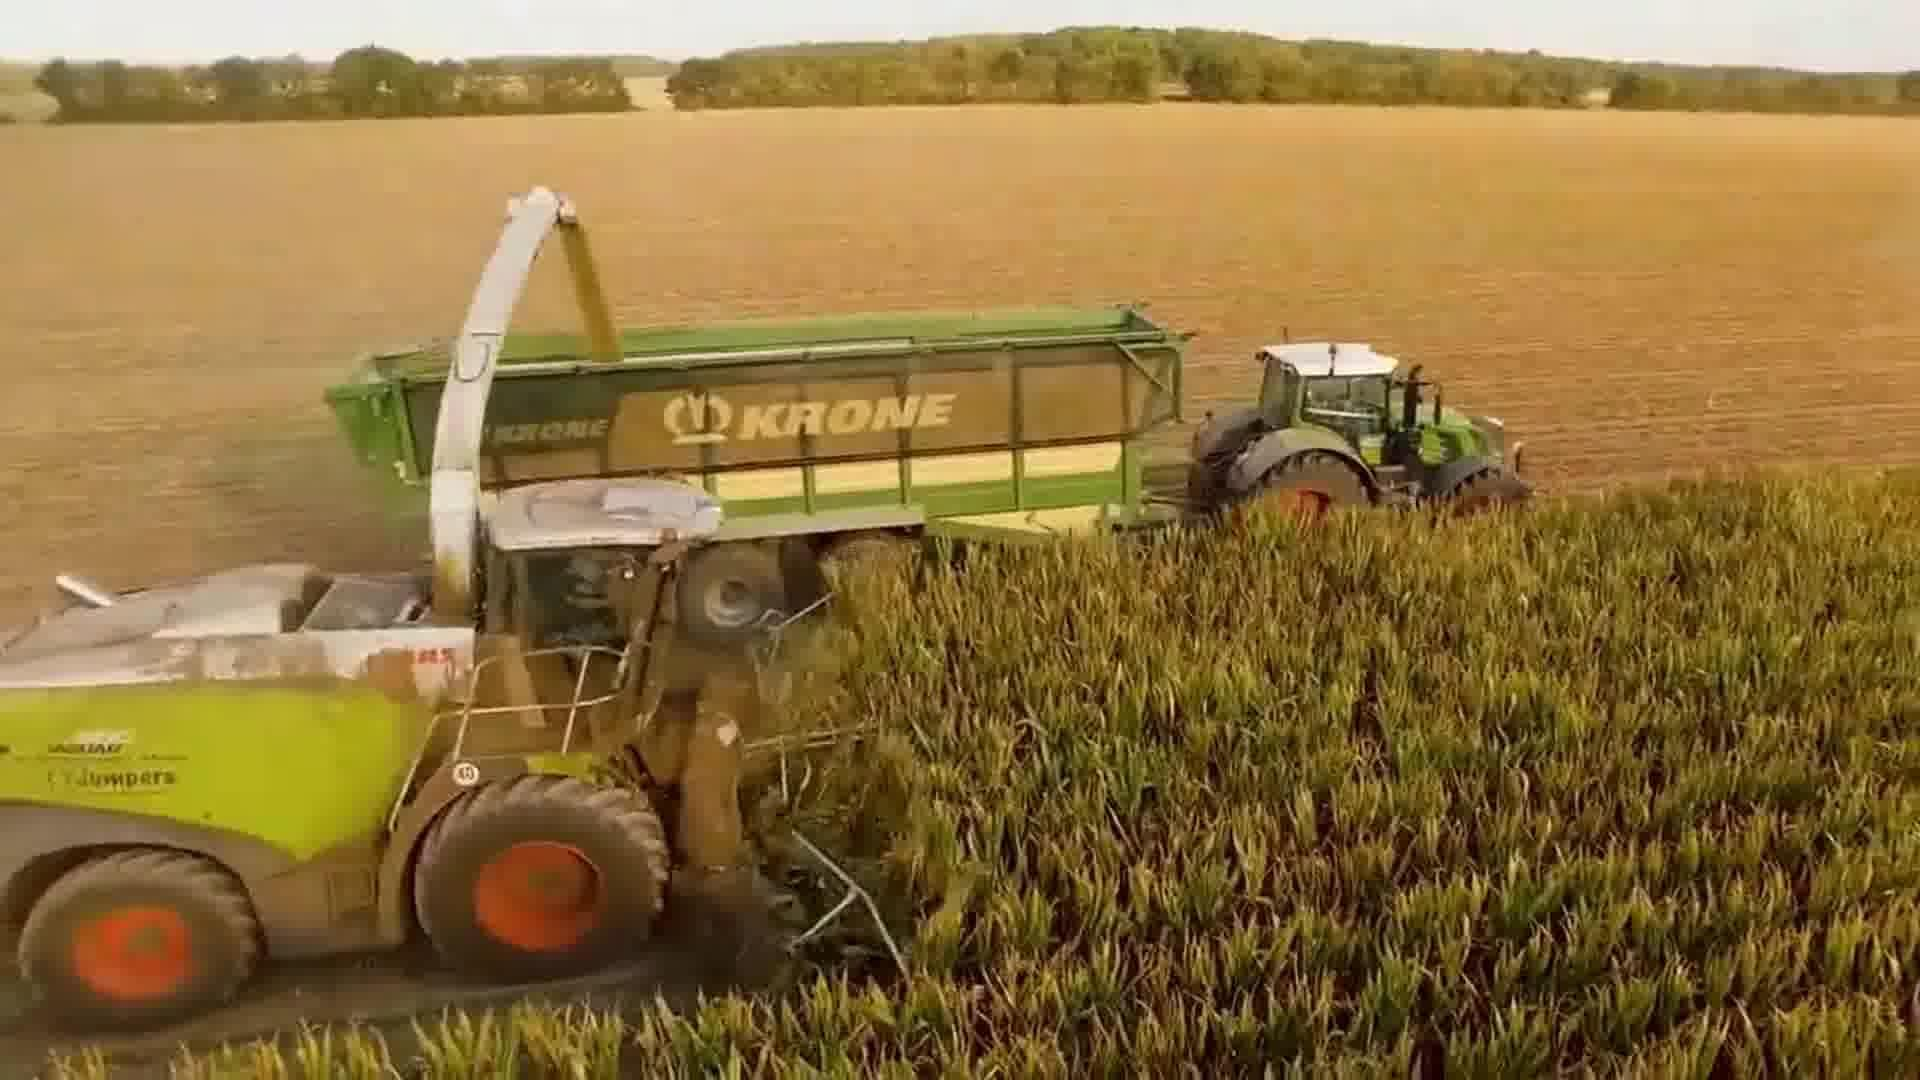combine harvester: (0, 178, 894, 1051)
tractor: (1176, 320, 1549, 547)
trailer: (322, 286, 1205, 649)
